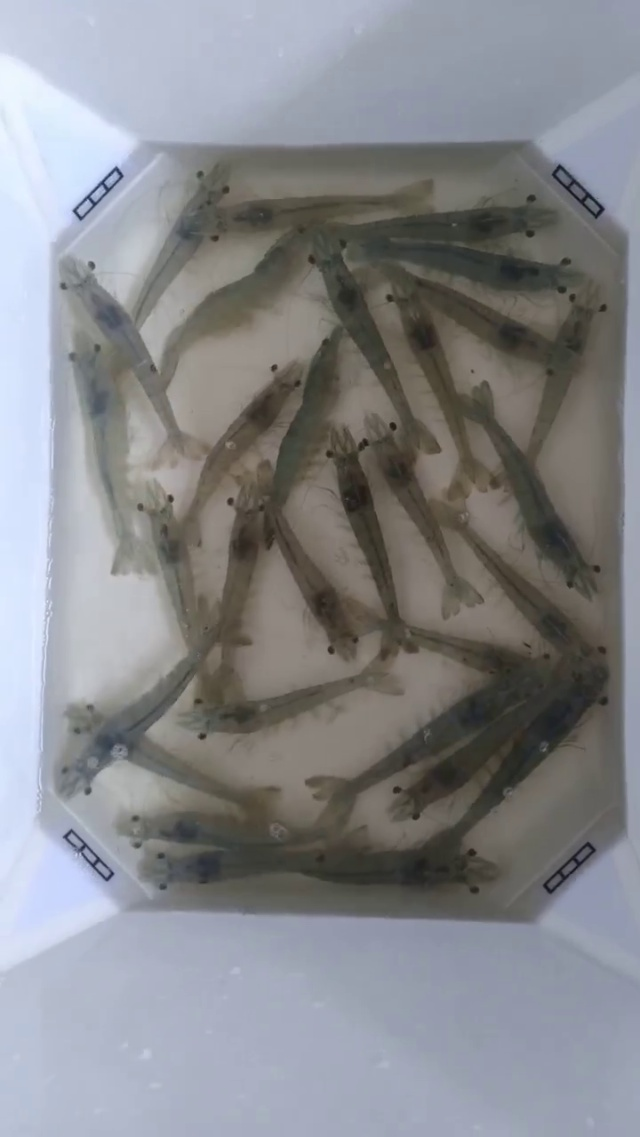shrimp: (557, 407, 639, 735), (137, 761, 276, 906), (575, 499, 639, 806), (555, 210, 639, 432), (179, 375, 286, 548), (82, 277, 185, 443), (59, 321, 156, 495), (112, 437, 206, 611), (106, 760, 219, 903), (415, 774, 523, 917), (60, 256, 161, 408), (135, 161, 228, 322), (516, 116, 601, 291), (80, 742, 177, 892), (276, 521, 380, 660), (135, 161, 229, 313), (0, 179, 54, 433), (329, 714, 447, 829), (343, 321, 439, 460), (148, 601, 249, 732), (177, 629, 283, 746), (242, 195, 383, 282), (269, 333, 339, 507), (63, 739, 140, 881), (527, 164, 604, 304), (209, 361, 305, 462), (331, 587, 418, 694), (221, 460, 273, 622), (355, 211, 472, 273), (432, 430, 493, 527), (325, 413, 373, 532), (71, 166, 122, 265)
